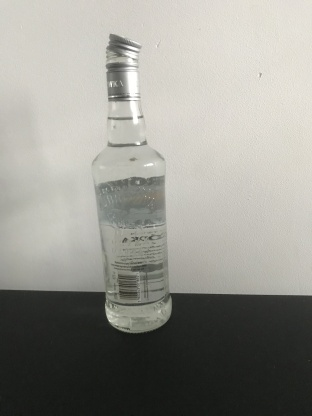nakretka: (104, 31, 143, 102)
